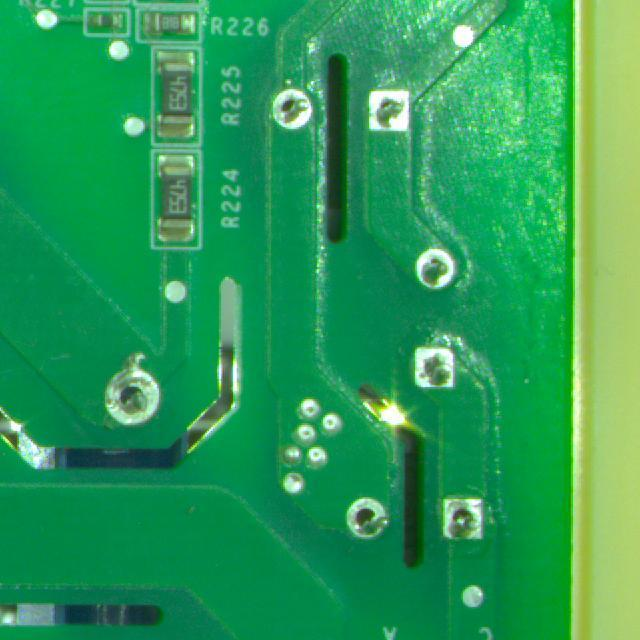Insufficient solder: (91, 351, 184, 436), (363, 75, 412, 142), (339, 489, 392, 549), (409, 336, 457, 400), (441, 495, 486, 543), (413, 243, 459, 288), (267, 88, 316, 130)
